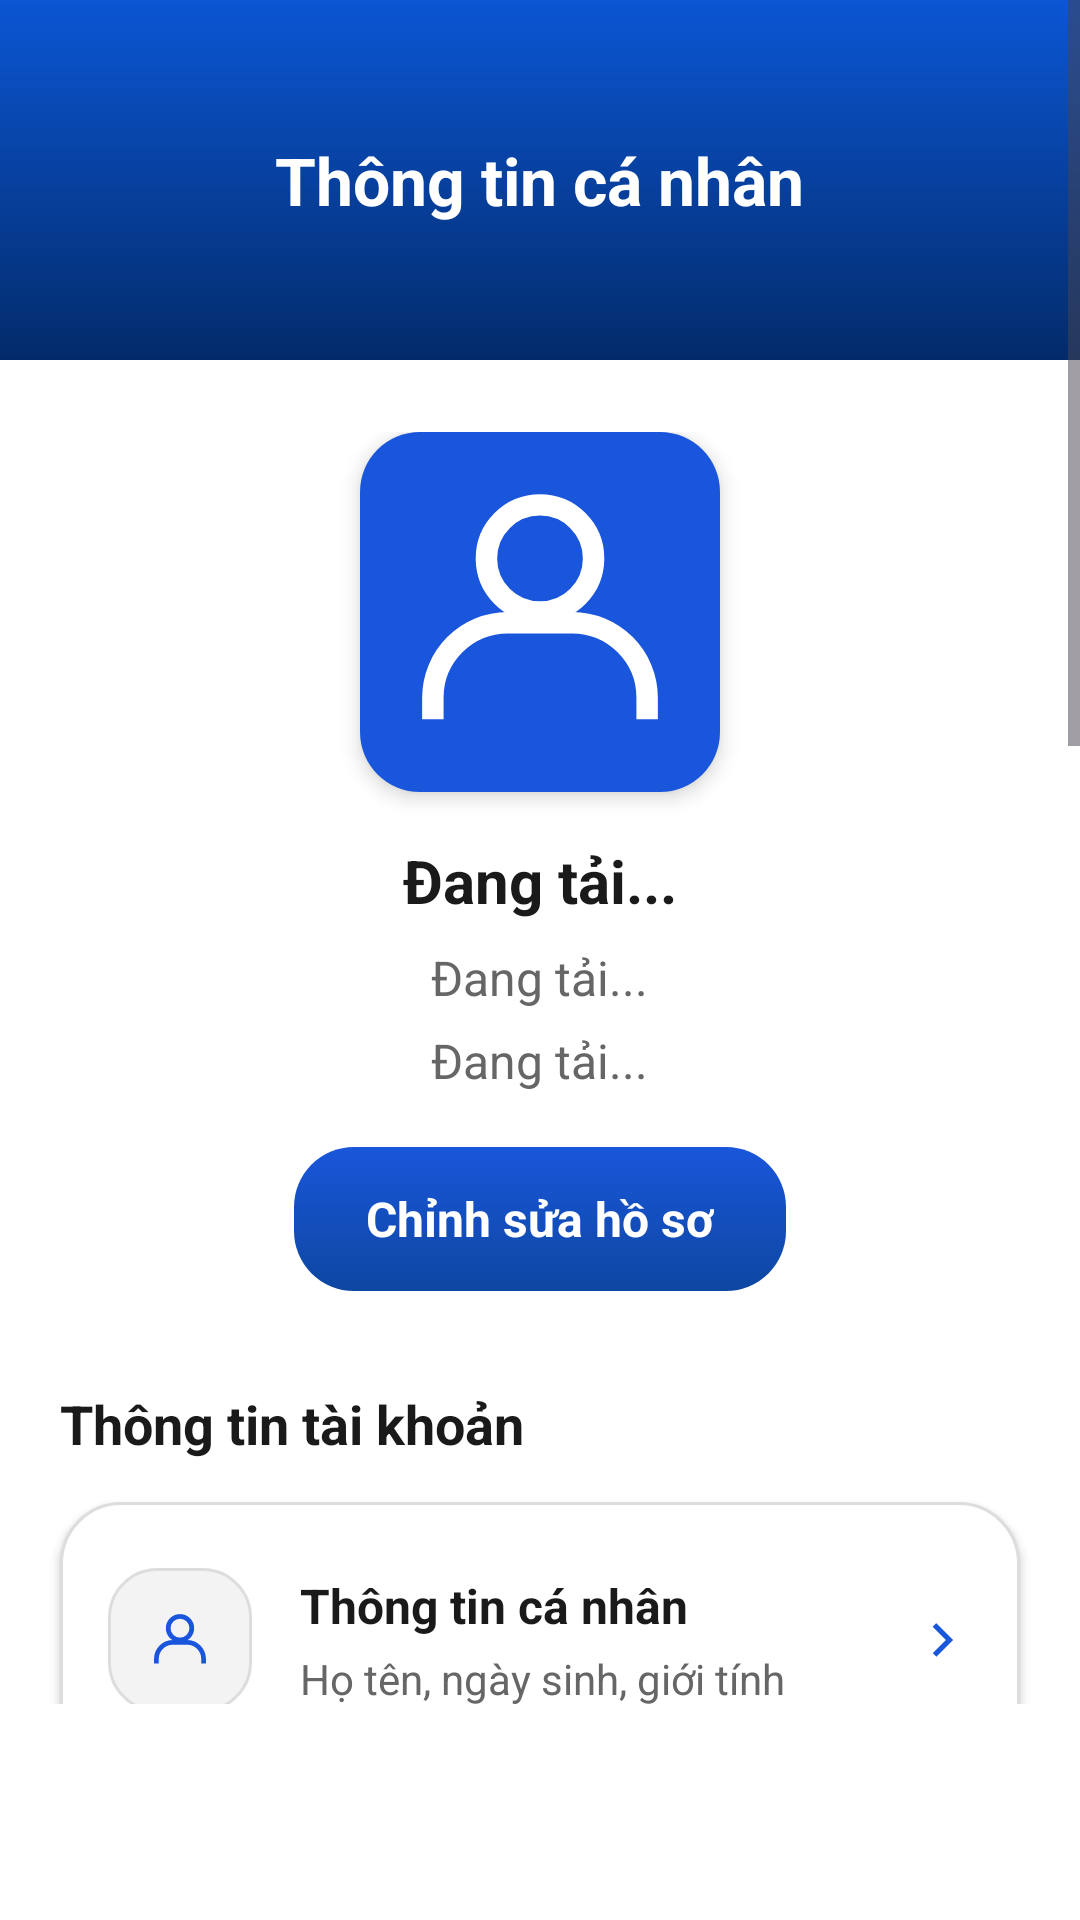

Screen size 1080*1920. Icon name, then its box in pixels as (x1, y1, x2, y2):
arrow: (932, 1623, 953, 1657)
user: (422, 494, 658, 720), (154, 1614, 206, 1664)
